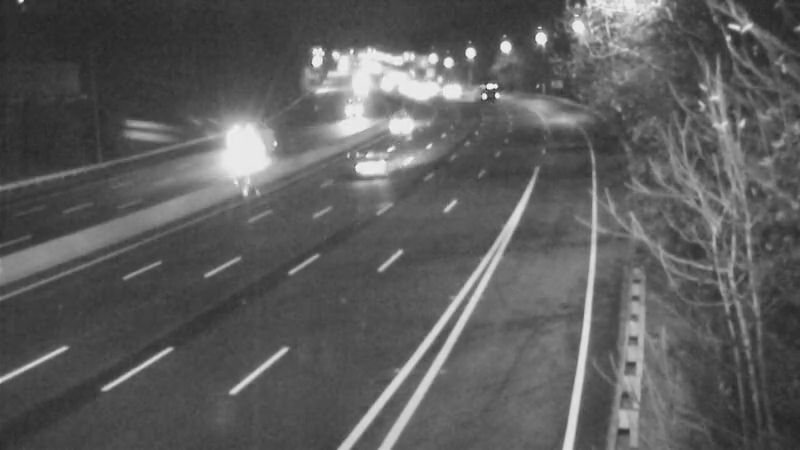vehicle: (335, 124, 415, 204), (204, 115, 284, 195), (458, 69, 508, 119), (433, 69, 483, 119), (376, 98, 426, 148), (207, 107, 257, 157), (326, 90, 376, 140)
